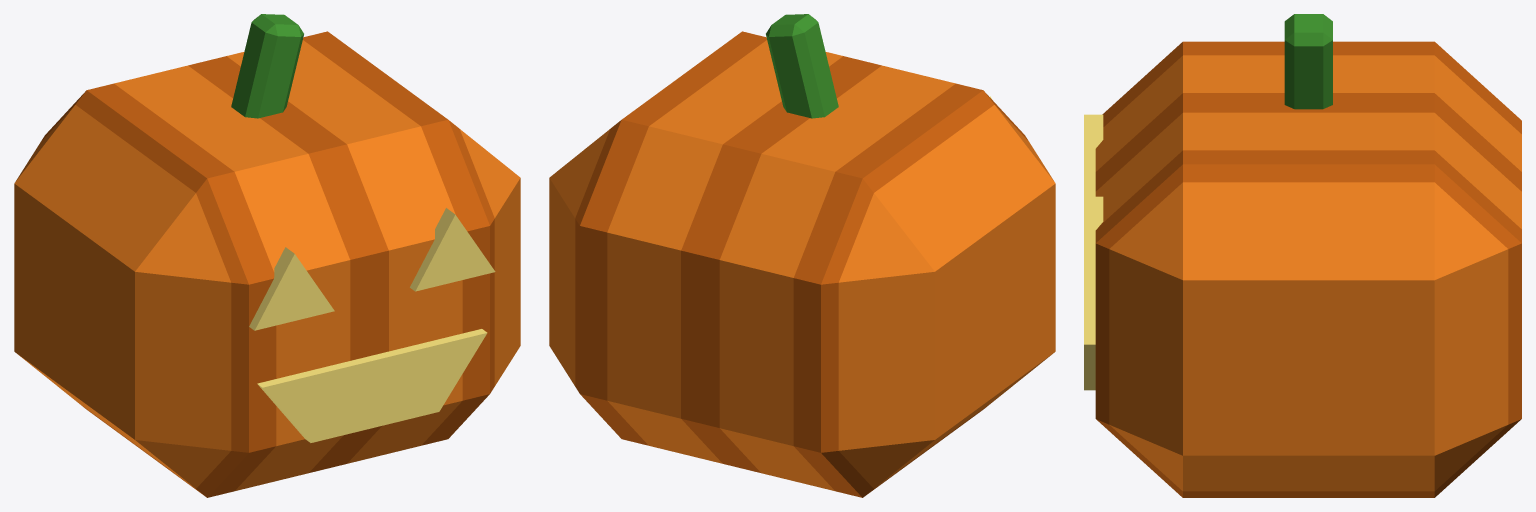
The model's file is HappyPumpkin.fbx.
3 views of the same model, side by side, from view 1: azimuth 30°, elevation 25°; view 2: azimuth 150°, elevation 25°; view 3: azimuth 270°, elevation 25° (orthographic). The views are drawn at different scales.
Visible parts, largest first — view 1: HappyPumpkin; view 2: HappyPumpkin; view 3: HappyPumpkin.
Boxes of the visible parts, left/top/right/bottom form: HappyPumpkin: left=14, top=14, right=520, bottom=497; HappyPumpkin: left=549, top=14, right=1055, bottom=497; HappyPumpkin: left=1084, top=14, right=1521, bottom=497.
Size of the model in its own units: 2.4 by 2.41 by 2.26.
1 material, 1 textured.
